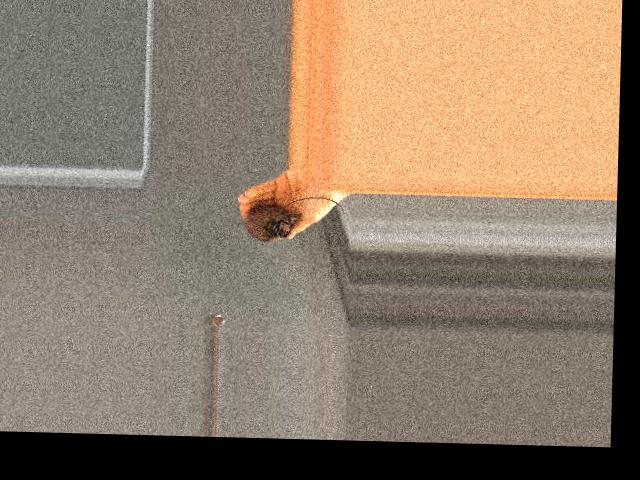beet: (231, 194, 343, 243)
